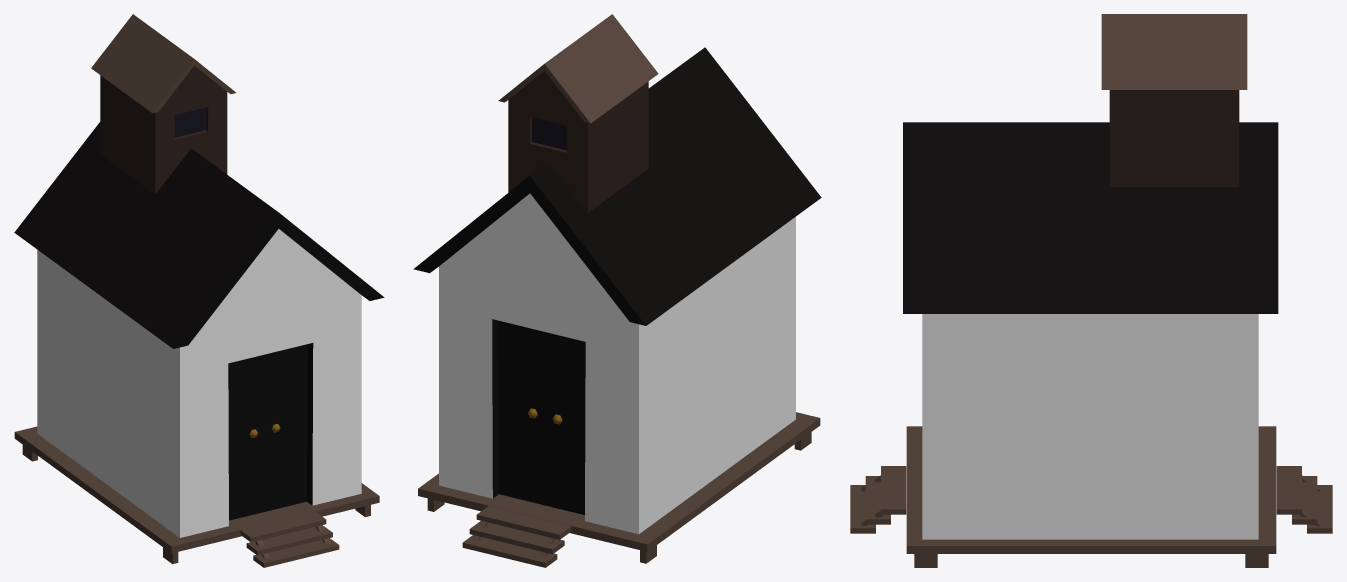
File: SM_Cabana_02.obj
The picture shows the model from 3 angles, left to right: view 1: azimuth 30°, elevation 25°; view 2: azimuth 150°, elevation 25°; view 3: azimuth 270°, elevation 25°; orthographic projection. The views are drawn at different scales.
Parts seen in each view (by area): view 1: SM_Cabana1; view 2: SM_Cabana1; view 3: SM_Cabana1.
Boxes of the visible parts, bbox=[...] form: SM_Cabana1: bbox=[14, 14, 384, 567]; SM_Cabana1: bbox=[413, 14, 821, 567]; SM_Cabana1: bbox=[850, 14, 1332, 567].
Bounding box in the file's own units: 2.63 × 5.02 × 4.4.
